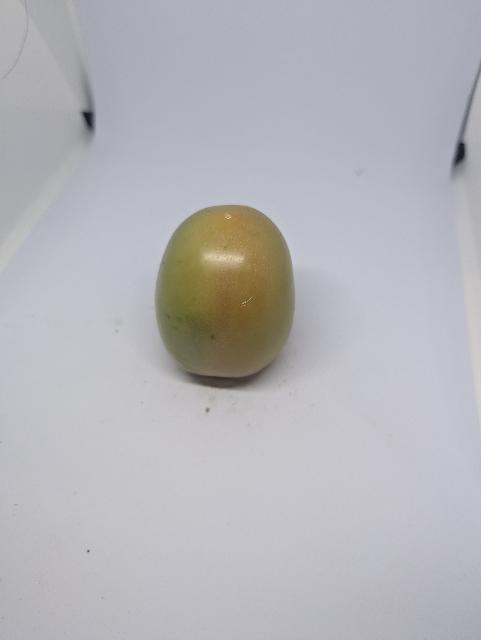breaker: (155, 205, 295, 377)
